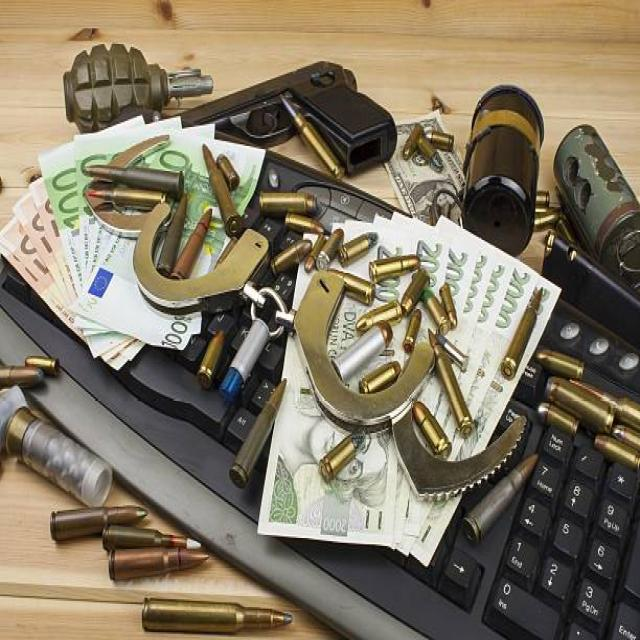grenade: (61, 43, 220, 140)
